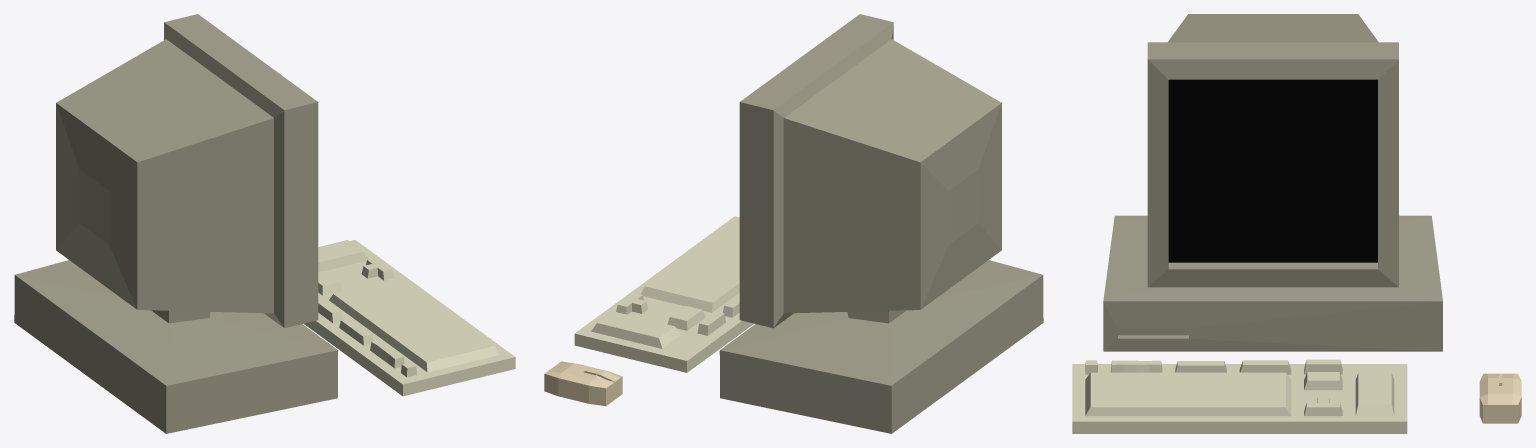
File: ordinateur.fbx
3 renders of one model, left to right at view 1: azimuth 30°, elevation 25°; view 2: azimuth 150°, elevation 25°; view 3: azimuth 270°, elevation 25°, orthographic. The views are drawn at different scales.
Parts seen in each view (by area): view 1: Cube, Cube.001; view 2: Cube, Cube.001, Cube.002; view 3: Cube, Plan, Cube.001, Cube.002.
Boxes of the visible parts, left/top/right/bottom form: Cube: left=14, top=14, right=338, bottom=433; Cube.001: left=304, top=240, right=515, bottom=396; Cube: left=719, top=14, right=1043, bottom=433; Cube.001: left=574, top=216, right=753, bottom=372; Cube.002: left=544, top=361, right=622, bottom=406; Cube: left=1103, top=14, right=1442, bottom=351; Plan: left=1168, top=79, right=1377, bottom=262; Cube.001: left=1072, top=359, right=1407, bottom=433; Cube.002: left=1479, top=373, right=1521, bottom=423.
Size of the model in its own units: 316 by 258 by 358.
